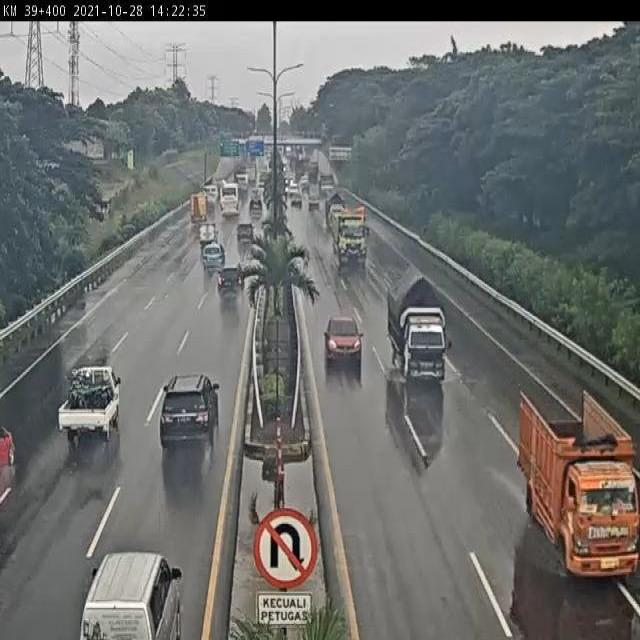car: (57, 362, 119, 442), (159, 372, 219, 445), (323, 319, 365, 372)
truck-l-: (332, 207, 371, 269)
truck-s-: (517, 386, 640, 582), (386, 265, 445, 387)
